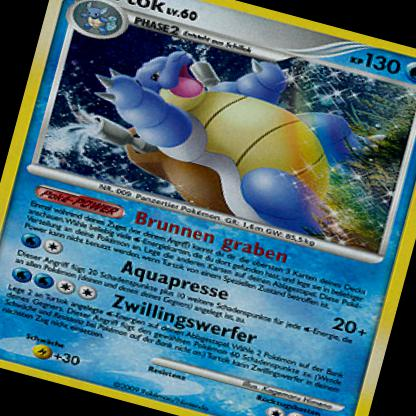Blastoise: (83, 22, 392, 245)
